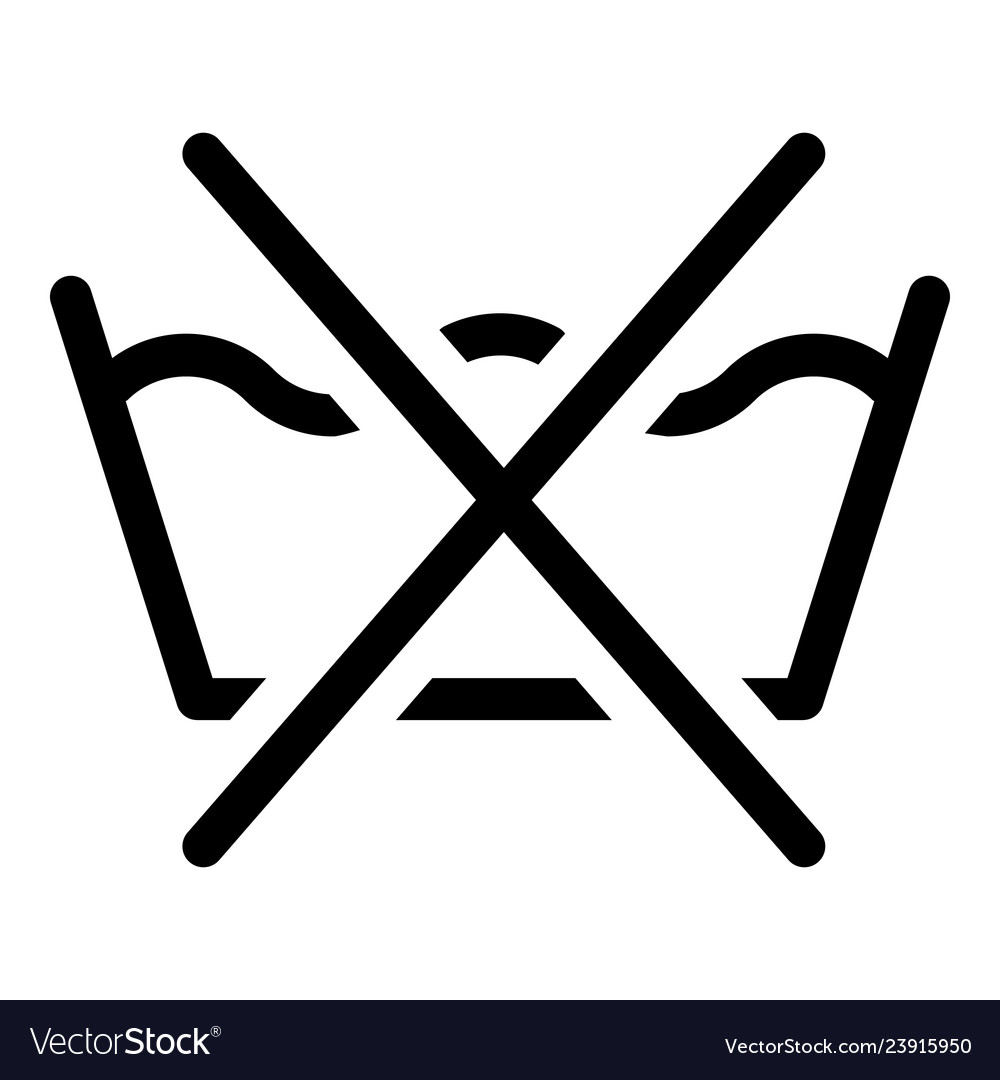do_not_wash: (33, 93, 959, 893)
